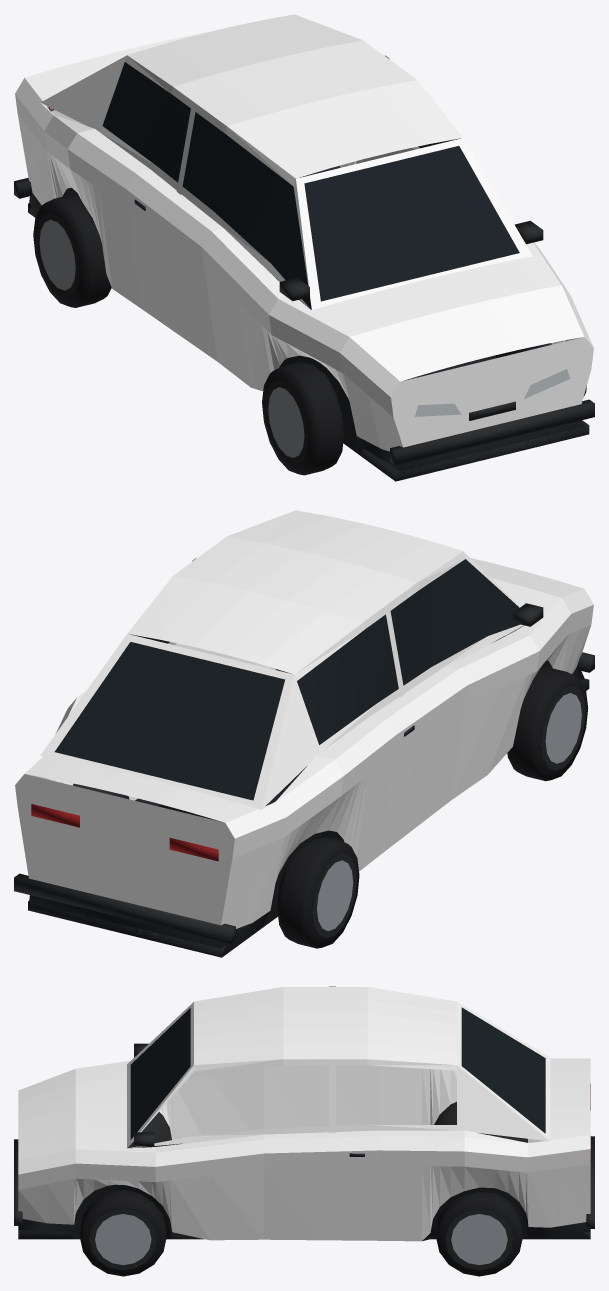
Rendered from norrvik_gota.glb.
The picture shows the model from 3 angles, top to bottom: view 1: azimuth 30°, elevation 25°; view 2: azimuth 150°, elevation 25°; view 3: azimuth 270°, elevation 25°; orthographic projection. The views are drawn at different scales.
Visible parts, largest first — view 1: Body_Paint, Body_Details, Mount_FrontLeft_Wheel_Details, Mount_RearLeft_Wheel_Details; view 2: Body_Paint, Body_Details, Mount_RearLeft_Wheel_Details, Mount_FrontLeft_Wheel_Details; view 3: Body_Paint, Body_Details, Mount_FrontRight_Wheel_Details, Mount_RearRight_Wheel_Details.
Part boxes in pixels (bbox=[...]): Body_Paint: bbox=[15, 14, 593, 451]; Body_Details: bbox=[14, 62, 594, 481]; Mount_FrontLeft_Wheel_Details: bbox=[262, 362, 344, 475]; Mount_RearLeft_Wheel_Details: bbox=[33, 194, 111, 307]; Body_Paint: bbox=[15, 510, 593, 928]; Body_Details: bbox=[14, 559, 594, 957]; Mount_RearLeft_Wheel_Details: bbox=[277, 836, 359, 948]; Mount_FrontLeft_Wheel_Details: bbox=[507, 667, 588, 781]; Body_Paint: bbox=[18, 986, 590, 1241]; Body_Details: bbox=[14, 1007, 594, 1241]; Mount_FrontRight_Wheel_Details: bbox=[79, 1190, 166, 1276]; Mount_RearRight_Wheel_Details: bbox=[436, 1192, 522, 1276].
Bounding box in the file's own units: 1.6 × 1.46 × 3.73.
Materials: 2 (1 with a texture image).
